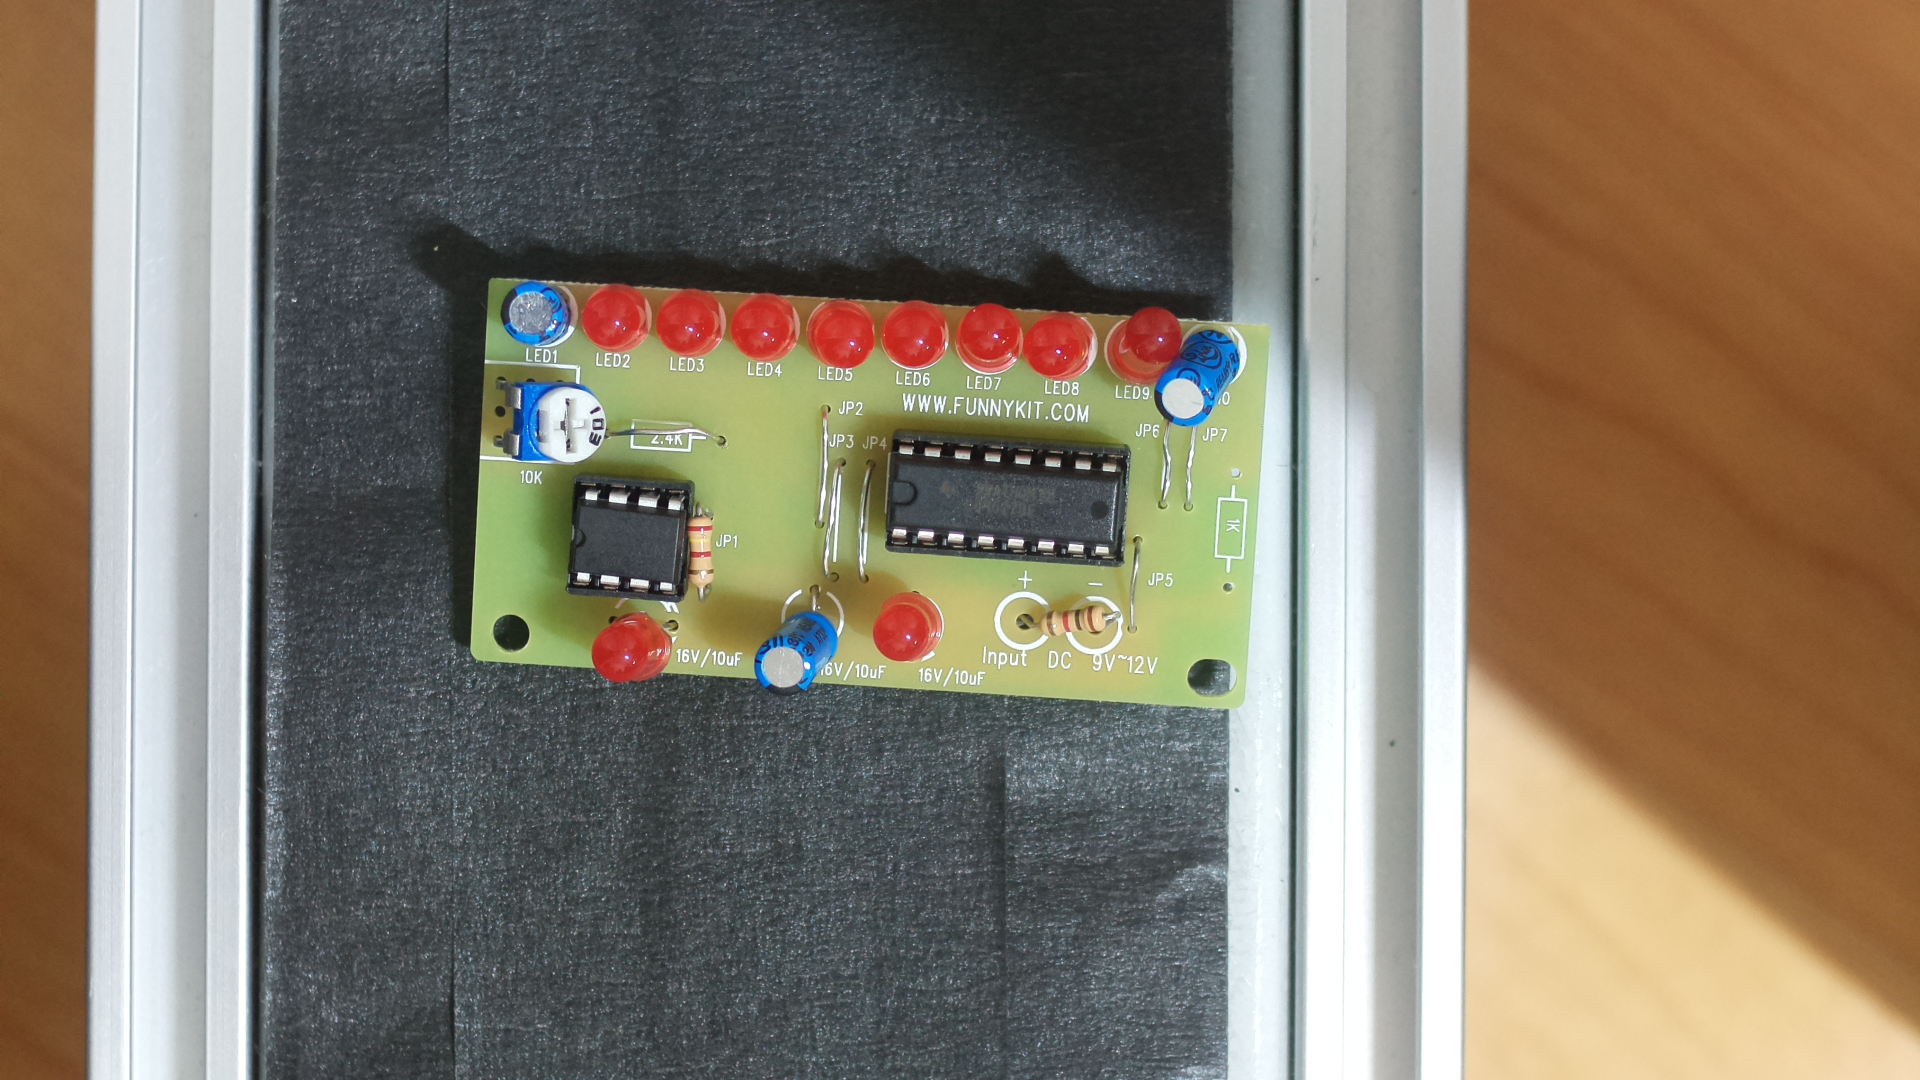B_Misordered: (473, 251, 1284, 729)
